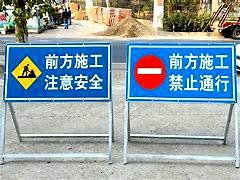sign: (127, 42, 237, 103), (4, 42, 112, 101)
